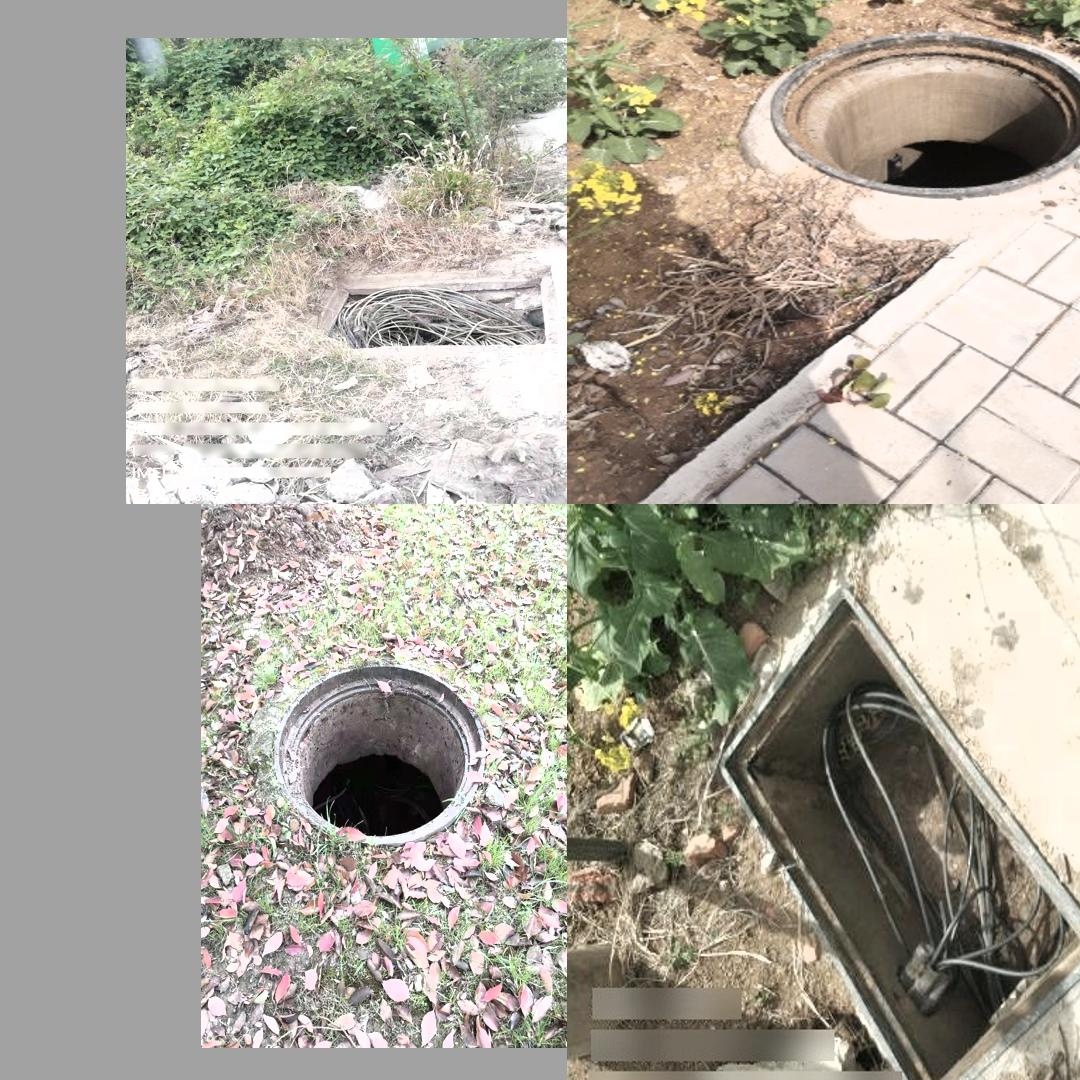lose: (717, 585, 1080, 1080), (755, 13, 1080, 197), (274, 663, 486, 846), (310, 267, 561, 348)
